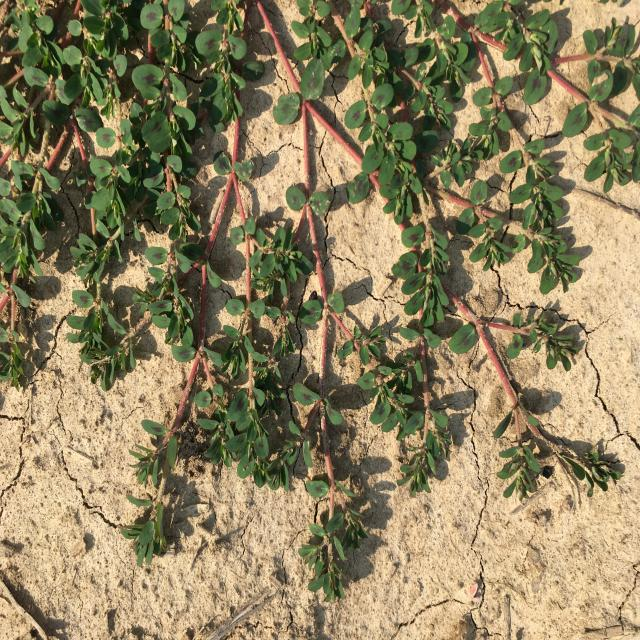SpottedSpurge: (0, 1, 640, 602)
